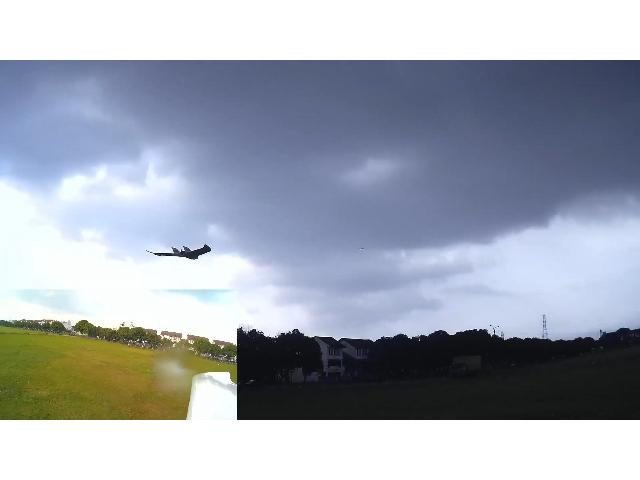Anti-Drone: (146, 244, 210, 260)
